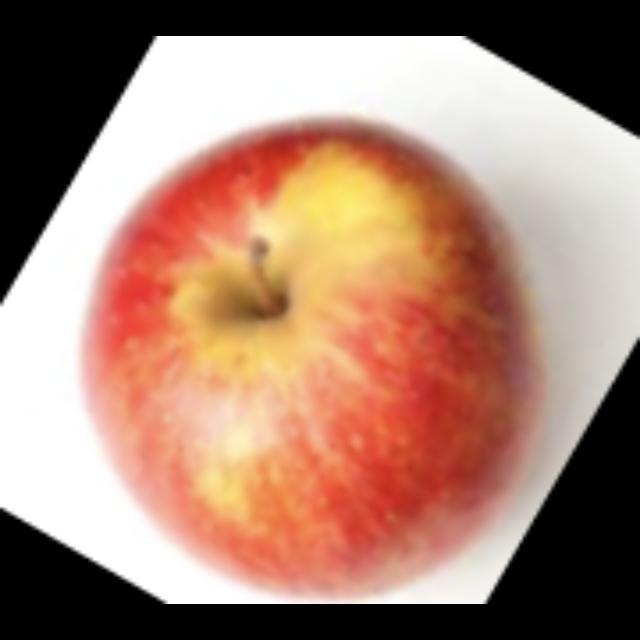Apel Segar: (109, 118, 534, 580)
